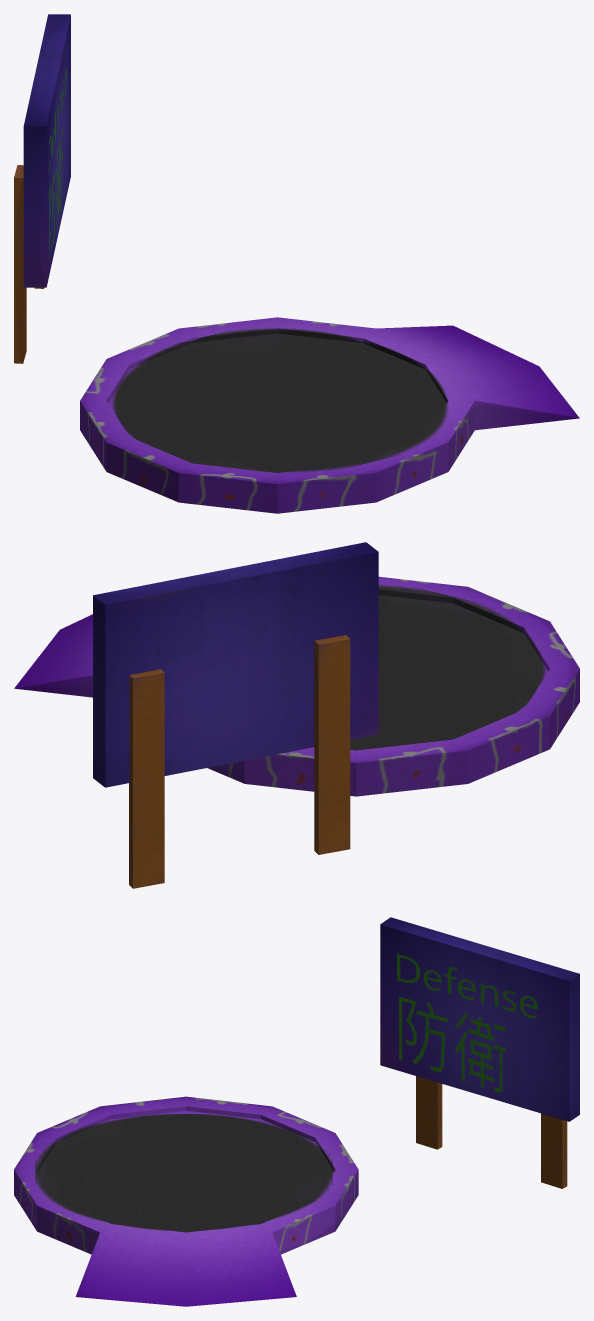
Rendered from Defense.fbx.
3 views of the same model, one above another, from view 1: azimuth 30°, elevation 25°; view 2: azimuth 150°, elevation 25°; view 3: azimuth 270°, elevation 25° (orthographic). The views are drawn at different scales.
Parts seen in each view (by area): view 1: polySurface10; view 2: polySurface10; view 3: polySurface10.
Part boxes in pixels (x1,y1,x2,y2): polySurface10: [14, 14, 579, 513]; polySurface10: [14, 542, 579, 888]; polySurface10: [14, 917, 579, 1306].
Size of the model in its own units: 6.93 by 3.85 by 8.99.
1 material, 1 textured.
